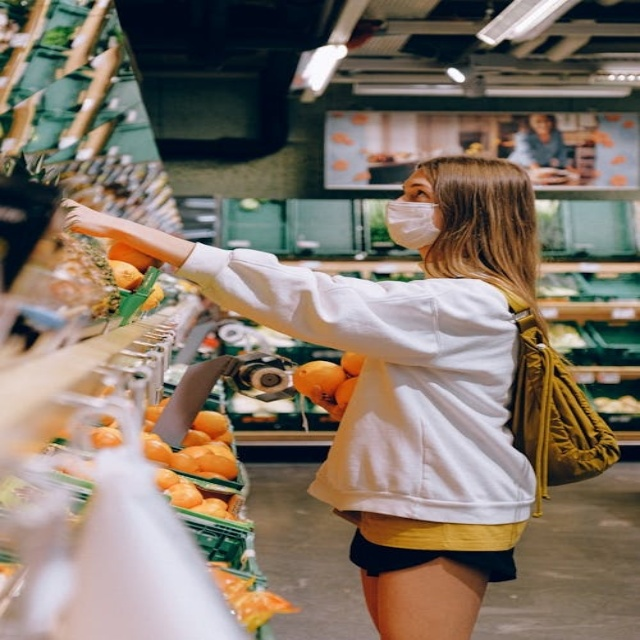Mascara: (385, 200, 444, 248)
Sin_gafas: (399, 179, 436, 205)
